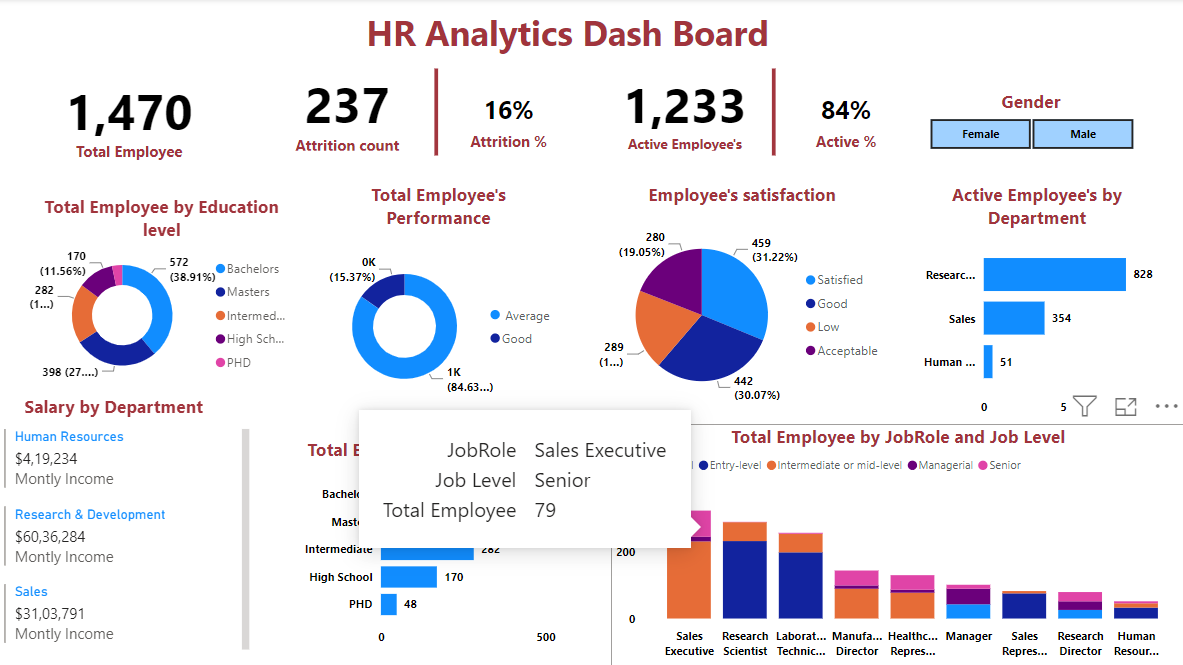

The dashboard page shown, as its layout file describes it:
{"tool":"powerbi","page":{"name":"Page 1","canvas":[1280,720],"ordinal":0},"visuals":[{"type":"card","fields":{"Values":["Measures (2).Total Employee"]},"box":[32.4,76,215.2,108.4],"z":0},{"type":"card","fields":{"Values":["Measures (2).Attrition count"]},"box":[296.1,76,158.6,93.8],"z":0,"group":"g1"},{"type":"card","fields":{"Values":["Measures (2).Active Employee's"]},"box":[660.1,76,158.6,93.8],"z":0,"group":"g2"},{"type":"group","id":"g1","title":"Group 1","box":[296.1,76,318.7,93.8],"z":1000},{"type":"card","fields":{"Values":["Measures (2).Attrition %"]},"box":[483.8,93.8,131.1,76],"z":1000,"group":"g1"},{"type":"card","fields":{"Values":["Measures (2).Active %"]},"box":[847.8,93.8,131.1,76],"z":1000,"group":"g2"},{"type":"shape","box":[443.3,76,56.6,93.8],"z":2000,"group":"g1"},{"type":"group","id":"g2","title":"Group 1","box":[660.1,76,318.7,93.8],"z":2000},{"type":"shape","box":[807.3,76,56.6,93.8],"z":2000,"group":"g2"},{"type":"pieChart","title":"Employee''s satisfaction ","fields":{"Category":["HR Employee Project.Satisfaction Status"],"Y":["Measures (2).Total Employee"]},"box":[640.7,199,322,260.5],"z":3000},{"type":"clusteredBarChart","fields":{"Category":["HR Employee Project.Department"],"Y":["Measures (2).Active Employee's"]},"box":[978.9,199,281.5,260.5],"z":4000},{"type":"columnChart","fields":{"Category":["HR Employee Project.JobRole"],"Y":["Measures (2).Total Employee"],"Series":["HR Employee Project.Job Level"]},"box":[660.1,459.5,619.7,260.5],"z":5000},{"type":"barChart","fields":{"Category":["HR Employee Project.EducationField","HR Employee Project.Education level"],"Y":["Measures (2).Total Employee"]},"box":[323.6,474.1,317.1,233],"z":6000},{"type":"donutChart","title":"Total Employee''s Performance","fields":{"Category":["HR Employee Project.Employee's Performantion"],"Y":["Measures (2).Total Employee"]},"box":[339.8,199,268.6,260.5],"z":7000},{"type":"multiRowCard","fields":{"Values":["HR Employee Project.Department","Measures (2).Montly Income"]},"box":[0,459.5,275.1,260.5],"z":8000},{"type":"textbox","box":[0,422.3,247.6,37.2],"z":9000},{"type":"donutChart","fields":{"Y":["Measures (2).Total Employee"],"Category":["HR Employee Project.Education level"]},"box":[27.5,212,296.1,210.3],"z":10000},{"type":"slicer","title":"Gender","fields":{"Values":["HR Employee Project.Gender"]},"box":[978.9,98.7,268.6,71.2],"z":10001},{"type":"textbox","box":[247.6,6.5,731.3,69.6],"z":10002}]}

Visuals, with their boxes in screenshot pixels (x1, y1, x2, y2), scaled from the page's 1280x720 canvas onto the 1183x665 screenshot:
card - Measures (2).Total Employee: [left=30, top=70, right=229, bottom=170]
card - Measures (2).Attrition count: [left=274, top=70, right=420, bottom=157]
card - Measures (2).Active Employee's: [left=610, top=70, right=757, bottom=157]
"Group 1" group: [left=274, top=70, right=568, bottom=157]
card - Measures (2).Attrition %: [left=447, top=87, right=568, bottom=157]
card - Measures (2).Active %: [left=784, top=87, right=905, bottom=157]
shape: [left=410, top=70, right=462, bottom=157]
"Group 1" group: [left=610, top=70, right=905, bottom=157]
shape: [left=746, top=70, right=798, bottom=157]
"Employee''s satisfaction " pieChart: [left=592, top=184, right=890, bottom=424]
clusteredBarChart - HR Employee Project.Department x Measures (2).Active Employee's: [left=905, top=184, right=1165, bottom=424]
columnChart - HR Employee Project.JobRole x Measures (2).Total Employee: [left=610, top=424, right=1182, bottom=664]
barChart - HR Employee Project.EducationField x HR Employee Project.Education level: [left=299, top=438, right=592, bottom=653]
"Total Employee''s Performance" donutChart: [left=314, top=184, right=562, bottom=424]
multiRowCard - HR Employee Project.Department x Measures (2).Montly Income: [left=0, top=424, right=254, bottom=664]
textbox: [left=0, top=390, right=229, bottom=424]
donutChart - Measures (2).Total Employee x HR Employee Project.Education level: [left=25, top=196, right=299, bottom=390]
"Gender" slicer: [left=905, top=91, right=1153, bottom=157]
textbox: [left=229, top=6, right=905, bottom=70]
